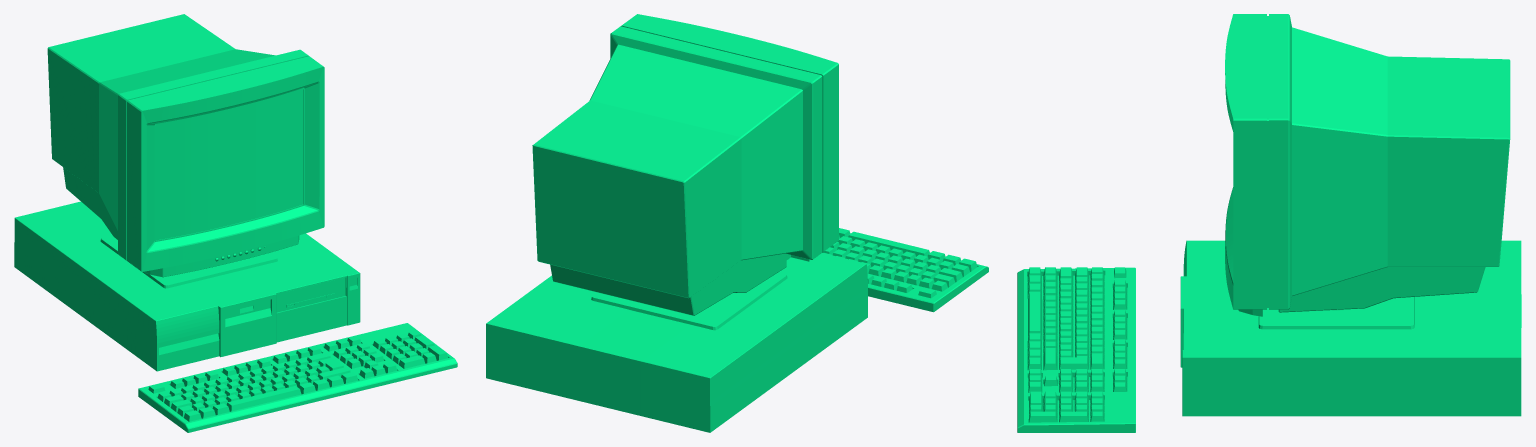
File: pcV4.gltf
3 views of the same model, side by side, from view 1: azimuth 30°, elevation 25°; view 2: azimuth 150°, elevation 25°; view 3: azimuth 270°, elevation 25° (orthographic). The views are drawn at different scales.
Visible parts, largest first — view 1: Plane.004; view 2: Plane.004; view 3: Plane.004.
Boxes of the visible parts, left/top/right/bottom form: Plane.004: left=14, top=14, right=457, bottom=432; Plane.004: left=486, top=14, right=988, bottom=432; Plane.004: left=1017, top=14, right=1521, bottom=432.
Size of the model in its own units: 0.605 by 0.5235 by 0.8268.
